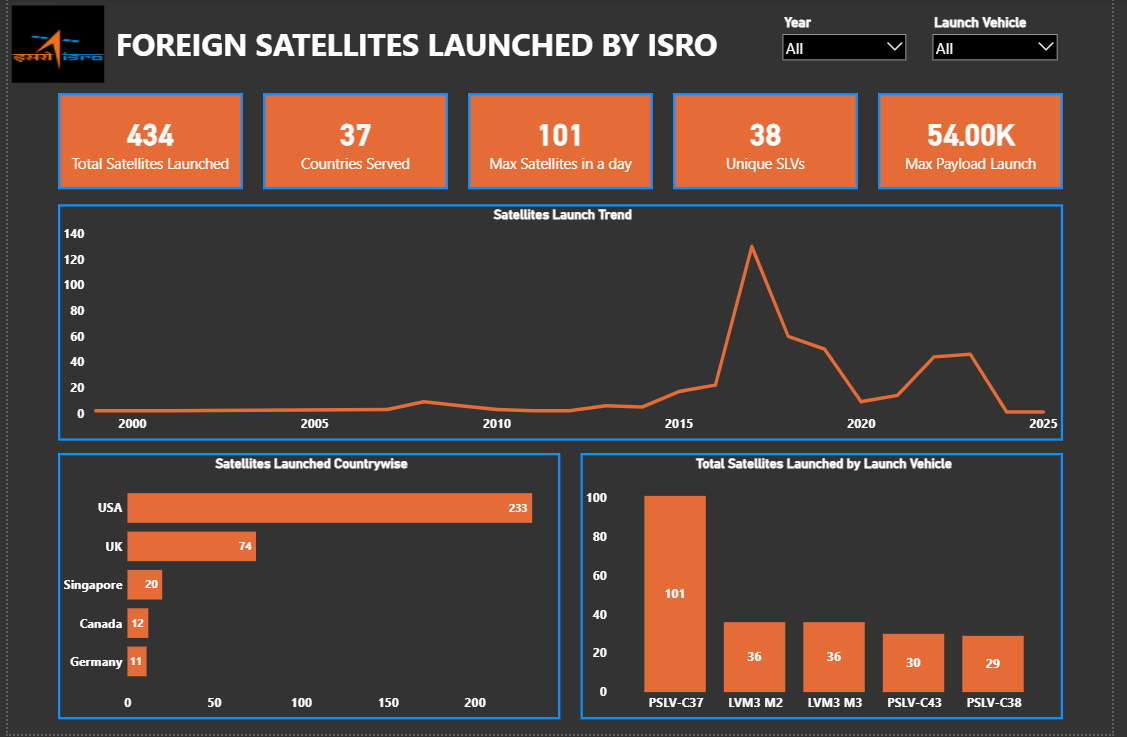

Layout of this report page (visuals, bound fields, positions):
{"tool":"powerbi","page":{"name":"Dashboard","canvas":[1920,1280],"ordinal":0},"visuals":[{"type":"card","fields":{"Values":["Foreign Satellites launched by ISRO.Total Satellites Launched"]},"box":[87,165.2,321.7,167.4],"z":0},{"type":"lineChart","title":"Satellites Launch Trend","fields":{"Category":["Foreign Satellites launched by ISRO.Date of Launch.Variation.Date Hierarchy.Year"],"Y":["CountNonNull(Foreign Satellites launched by ISRO.Satellite Name)"]},"box":[87,358.7,1747.8,410.9],"z":1000},{"type":"card","fields":{"Values":["Foreign Satellites launched by ISRO.Countries Served"]},"box":[443.5,165.2,321.7,167.4],"z":2000},{"type":"card","fields":{"Values":["Foreign Satellites launched by ISRO.Max Satellites in a day"]},"box":[800,165.2,321.7,167.4],"z":3000},{"type":"card","fields":{"Values":["Foreign Satellites launched by ISRO.Unique SLVs"]},"box":[1156.5,165.2,321.7,167.4],"z":4000},{"type":"card","fields":{"Values":["Foreign Satellites launched by ISRO.Max Payload Launch"]},"box":[1513.1,165.2,321.7,167.4],"z":5000},{"type":"slicer","fields":{"Values":["Foreign Satellites launched by ISRO.Date of Launch.Variation.Date Hierarchy.Year"]},"box":[1337,23.9,234.8,110.9],"z":6000},{"type":"slicer","fields":{"Values":["Foreign Satellites launched by ISRO.Launch Vehicle"]},"box":[1597.8,23.9,237,110.9],"z":7000},{"type":"clusteredBarChart","title":"Satellites Launched Countrywise ","fields":{"Category":["Foreign Satellites launched by ISRO.Country Final"],"Y":["Foreign Satellites launched by ISRO.Total Satellites Launched"]},"box":[87,791.3,873.9,463],"z":8000},{"type":"clusteredColumnChart","fields":{"Category":["Foreign Satellites launched by ISRO.Launch Vehicle"],"Y":["Foreign Satellites launched by ISRO.Total Satellites Launched"]},"box":[995.7,791.3,839.1,463],"z":9000},{"type":"image","box":[6.5,13,160.9,134.8],"z":10000},{"type":"textbox","box":[182.6,39.1,1065.2,84.8],"z":11000}]}

Visuals, with their boxes in screenshot pixels (x1, y1, x2, y2), scaled from the page's 1920x1280 canvas onto the 1127x737 screenshot:
card - Foreign Satellites launched by ISRO.Total Satellites Launched: (51,95,240,192)
"Satellites Launch Trend" lineChart: (51,207,1077,443)
card - Foreign Satellites launched by ISRO.Countries Served: (260,95,449,192)
card - Foreign Satellites launched by ISRO.Max Satellites in a day: (470,95,658,192)
card - Foreign Satellites launched by ISRO.Unique SLVs: (679,95,868,192)
card - Foreign Satellites launched by ISRO.Max Payload Launch: (888,95,1077,192)
slicer - Foreign Satellites launched by ISRO.Date of Launch.Variation.Date Hierarchy.Year: (785,14,923,78)
slicer - Foreign Satellites launched by ISRO.Launch Vehicle: (938,14,1077,78)
"Satellites Launched Countrywise " clusteredBarChart: (51,456,564,722)
clusteredColumnChart - Foreign Satellites launched by ISRO.Launch Vehicle x Foreign Satellites launched by ISRO.Total Satellites Launched: (584,456,1077,722)
image: (4,7,98,85)
textbox: (107,23,732,71)
